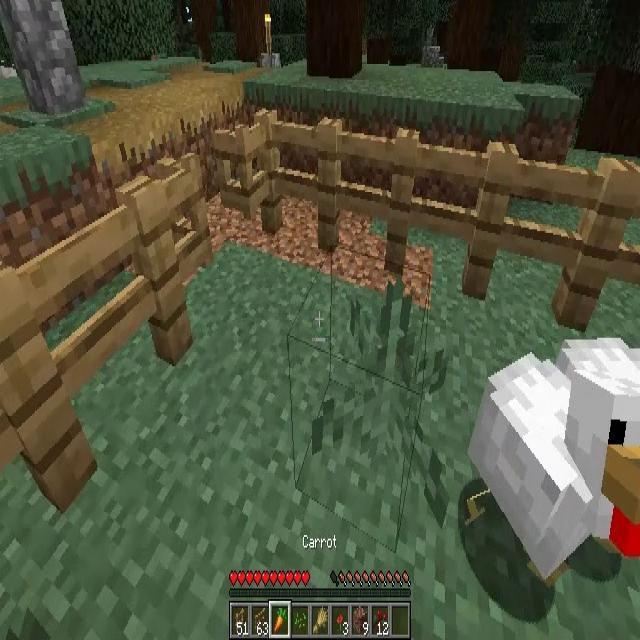duck: (456, 338, 640, 578)
